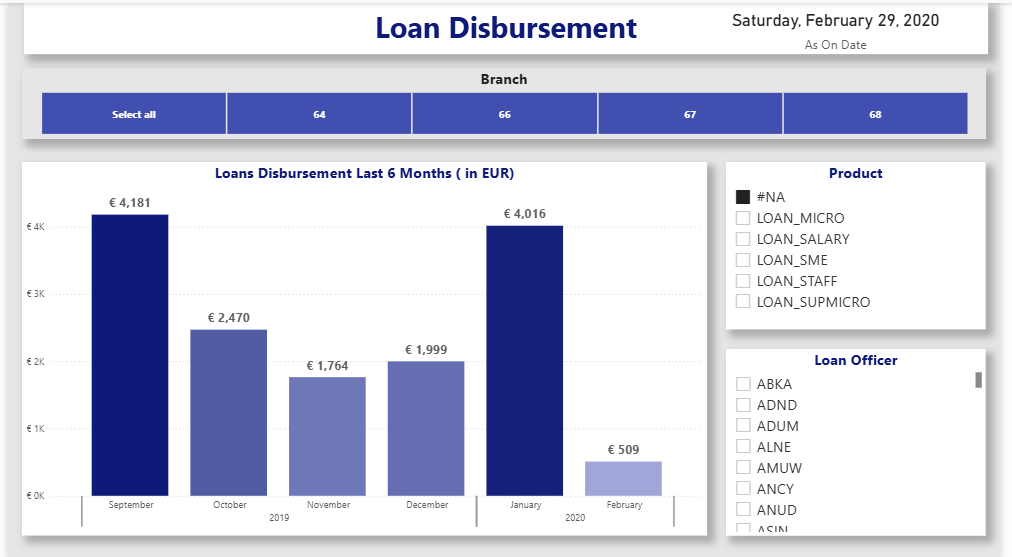

The dashboard page shown, as its layout file describes it:
{"tool":"powerbi","page":{"name":"Loan Disbursement","canvas":[1280,720],"ordinal":1},"visuals":[{"type":"clusteredColumnChart","title":"Loans Disbursement Last 6 Months ( in EUR)","fields":{"Y":["Sum(FactLoan.principal_amount_eur)"],"Category":["DimDate.FullDateAlternateKey.Variation.Date Hierarchy.Year","DimDate.FullDateAlternateKey.Variation.Date Hierarchy.Month"]},"box":[17.8,205.2,884.4,481.7],"z":0},{"type":"slicer","title":"Branch","fields":{"Values":["Dimension.branch_key"]},"box":[18,84,1244,91.5],"z":1000},{"type":"slicer","title":"Product","fields":{"Values":["Dimension.product_key"]},"box":[926.8,205.5,334.8,215.9],"z":2000},{"type":"slicer","title":"Loan Officer","fields":{"Values":["Dimension.loan_officer_user_code"]},"box":[926.4,446,335.2,240.8],"z":3000},{"type":"textbox","box":[20,0,1244,66],"z":4000},{"type":"card","fields":{"Values":["Max(DimDate.FullDateAlternateKey)"]},"box":[927.4,0,280.6,64.5],"z":6000}]}

Visuals, with their boxes in screenshot pixels (x1, y1, x2, y2), scaled from the page's 1280x720 canvas onto the 1012x557 screenshot:
"Loans Disbursement Last 6 Months ( in EUR)" clusteredColumnChart: bbox=[14, 159, 713, 531]
"Branch" slicer: bbox=[14, 65, 998, 136]
"Product" slicer: bbox=[733, 159, 997, 326]
"Loan Officer" slicer: bbox=[732, 345, 997, 531]
textbox: bbox=[16, 0, 999, 51]
card - Max(DimDate.FullDateAlternateKey): bbox=[733, 0, 955, 50]
